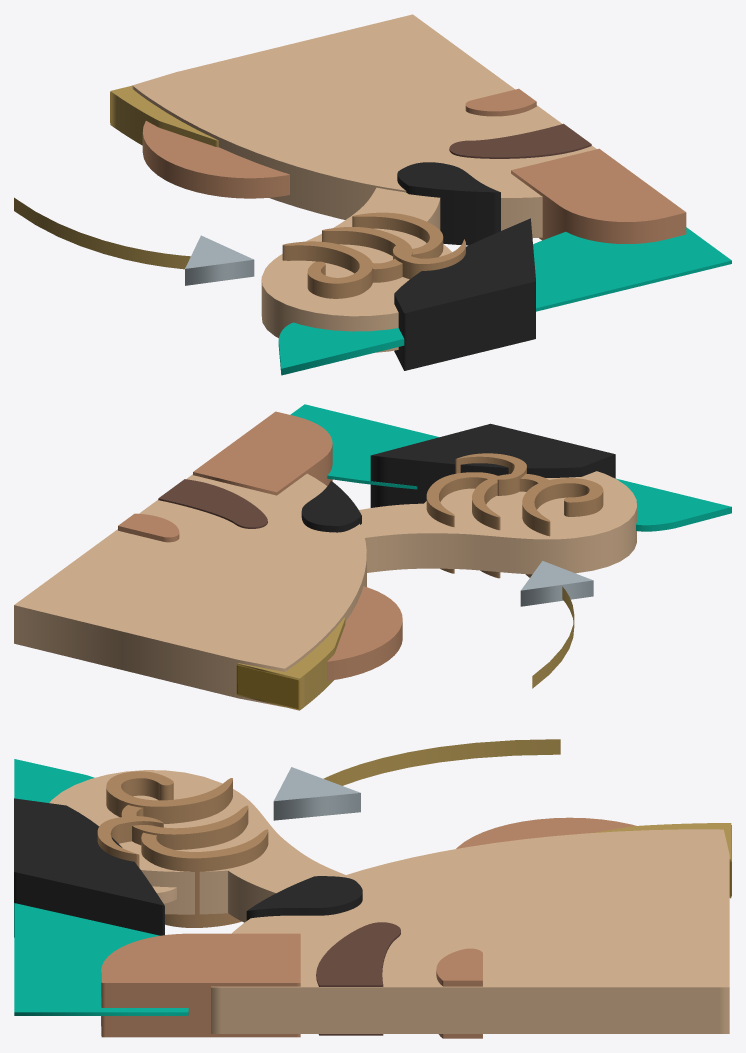
Rendered from emoji_u1f9cf_1f3fc_200d_2642.glb.
The picture shows the model from 3 angles, top to bottom: view 1: azimuth 30°, elevation 25°; view 2: azimuth 150°, elevation 25°; view 3: azimuth 270°, elevation 25°; orthographic projection. The views are drawn at different scales.
Visible parts, largest first — view 1: emoji_u1f9cf_1f3fc_200d_2642; view 2: emoji_u1f9cf_1f3fc_200d_2642; view 3: emoji_u1f9cf_1f3fc_200d_2642.
Part boxes in pixels (<box>): emoji_u1f9cf_1f3fc_200d_2642: <box>14,14,731,375</box>; emoji_u1f9cf_1f3fc_200d_2642: <box>14,404,731,710</box>; emoji_u1f9cf_1f3fc_200d_2642: <box>14,739,731,1038</box>.
Size of the model in its own units: 0.0296 by 0.0042 by 0.0336.
